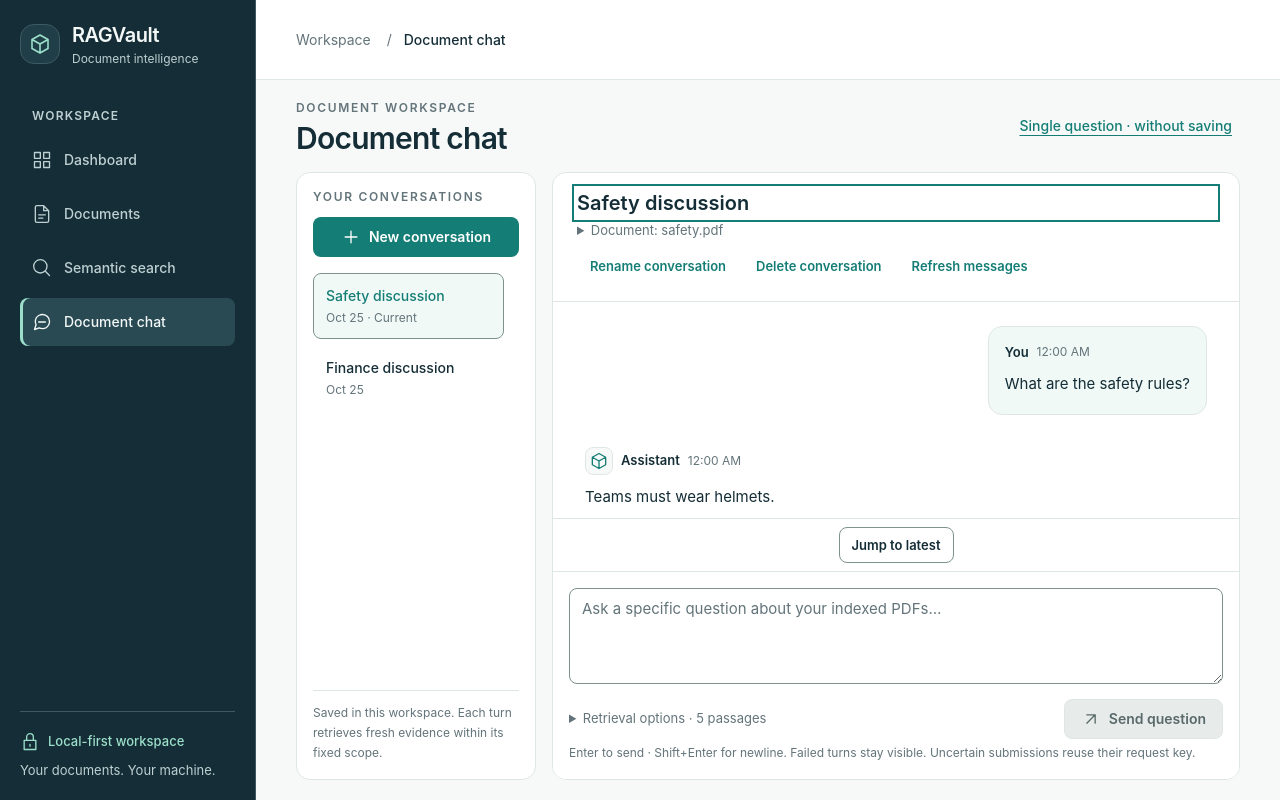
Test: Saved conversations › resets the reading position and pending UI when switching discussions
Check: the heading "Safety discussion" is shown, box x1=577 y1=191 x2=749 y2=215
Check: the button "Jump to latest" is shown, box x1=838 y1=527 x2=954 y2=563
Click the button "Finance discussion Oct 25" at (408, 378), box x1=313 y1=345 x2=504 y2=411
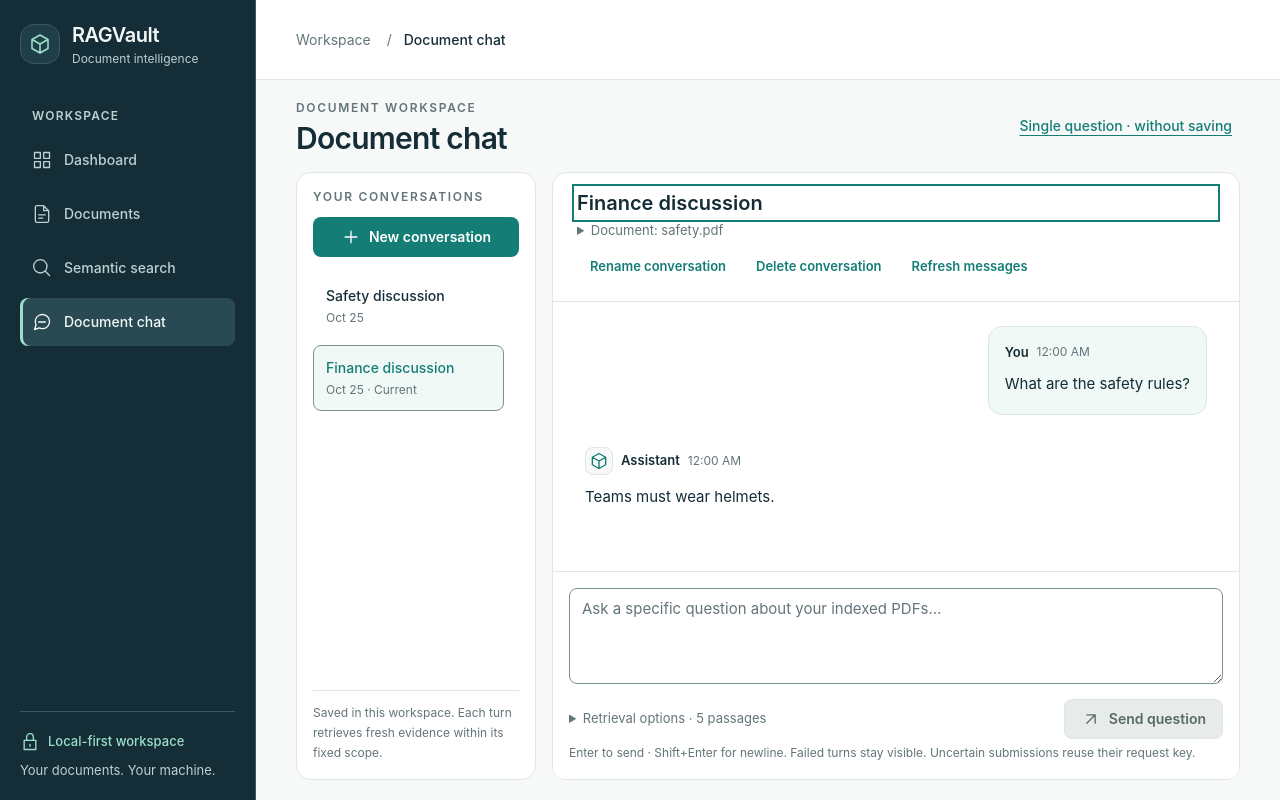
Check: the heading "Finance discussion" is shown, box x1=577 y1=191 x2=763 y2=215
Check: the button "Jump to latest" is gone
